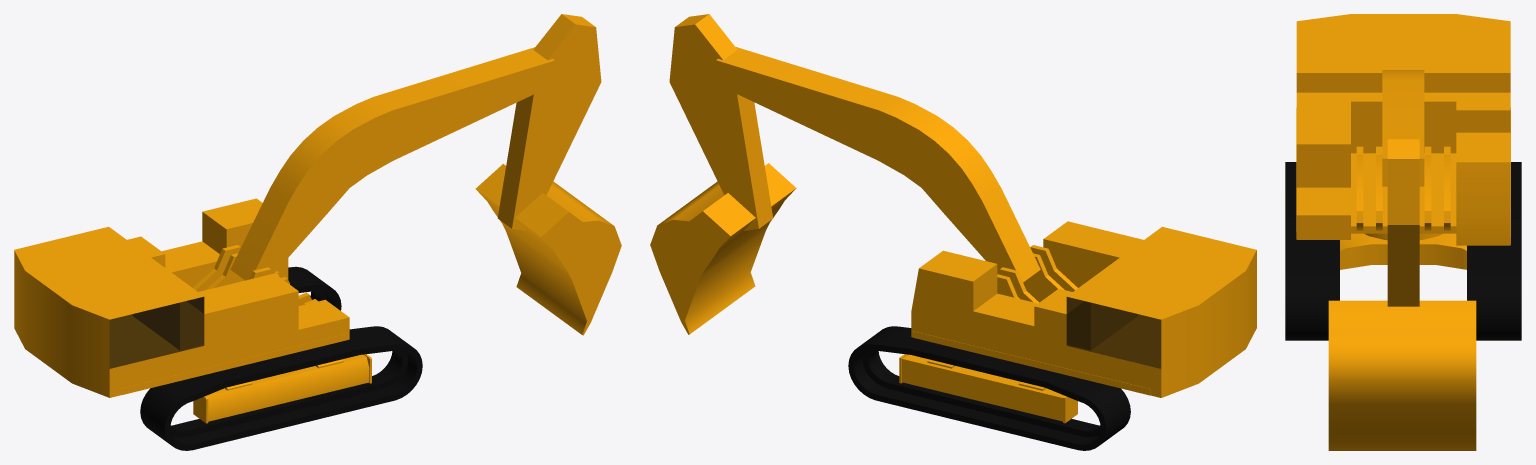
Rendered from 挖土機.FBX.
3 renders of one model, left to right at view 1: azimuth 30°, elevation 25°; view 2: azimuth 150°, elevation 25°; view 3: azimuth 270°, elevation 25°, orthographic. The views are drawn at different scales.
Visible parts, largest first — view 1: 挖土機, 挖土機手1, 挖土機手3, 挖土機手2; view 2: 挖土機, 挖土機手1, 挖土機手3, 挖土機手2; view 3: 挖土機, 挖土機手3, 挖土機手2, 挖土機手1.
Boxes of the visible parts, x1,y1,x2,y2 form: 挖土機: [14, 198, 422, 450]; 挖土機手1: [230, 47, 557, 280]; 挖土機手3: [475, 164, 621, 335]; 挖土機手2: [497, 14, 601, 230]; 挖土機: [848, 221, 1256, 450]; 挖土機手1: [713, 47, 1040, 282]; 挖土機手3: [650, 163, 796, 334]; 挖土機手2: [669, 14, 773, 230]; 挖土機: [1285, 14, 1521, 340]; 挖土機手3: [1328, 300, 1476, 450]; 挖土機手2: [1387, 139, 1419, 306]; 挖土機手1: [1382, 70, 1424, 186].
Bounding box in the file's own units: 518 × 261 × 174.
